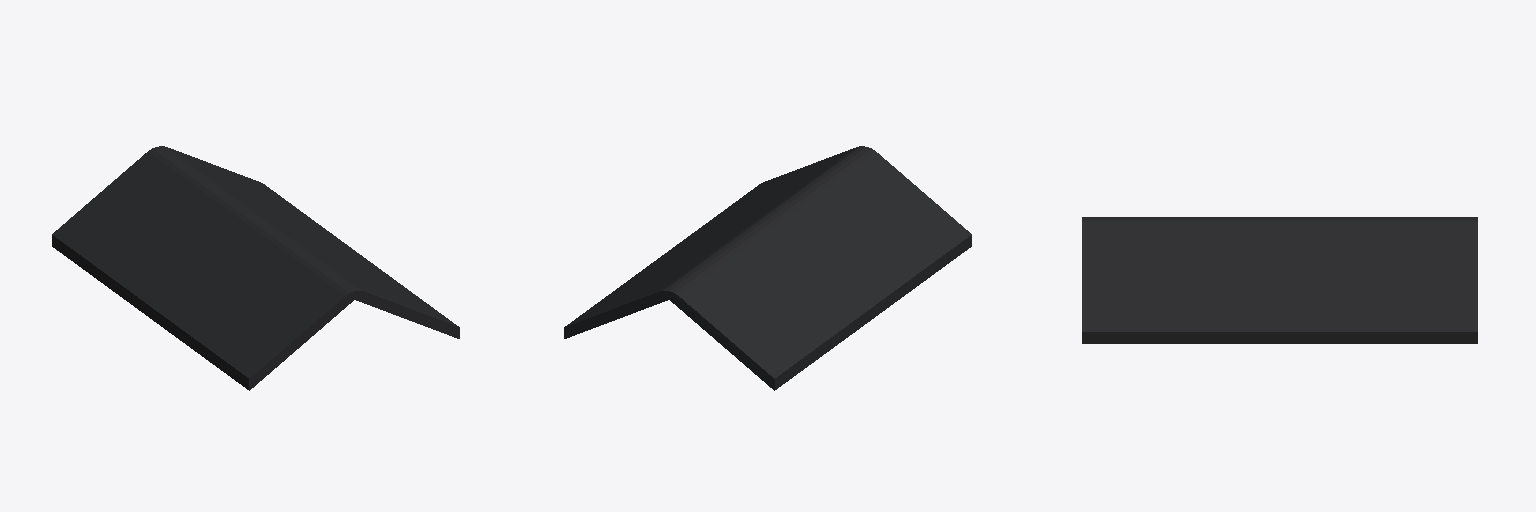
Rendered from roof.obj.
3 renders of one model, left to right at view 1: azimuth 30°, elevation 25°; view 2: azimuth 150°, elevation 25°; view 3: azimuth 270°, elevation 25°, orthographic.
Parts seen in each view (by area): view 1: HouseRoof.001; view 2: HouseRoof.001; view 3: HouseRoof.001.
Part boxes in pixels (x1,y1,x2,y2): HouseRoof.001: (52,146,459,390); HouseRoof.001: (564,146,971,390); HouseRoof.001: (1082,217,1477,343).
Bounding box in the file's own units: 11.03 × 3.7 × 17.91.